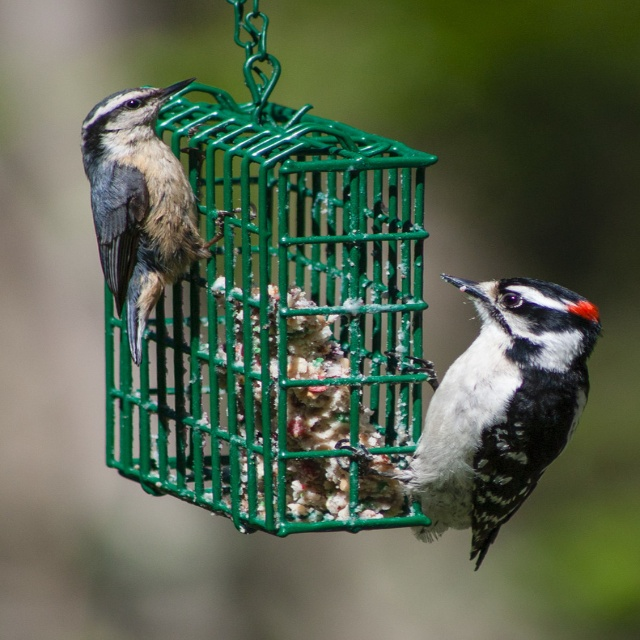Woodpecker: (334, 274, 604, 572)
